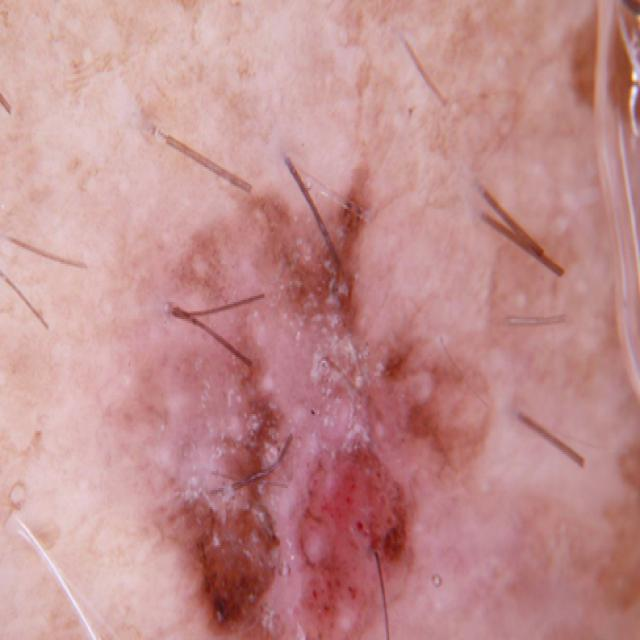Carcinoma: (107, 205, 509, 640)
